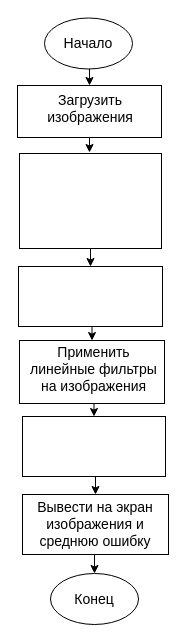
Some shapes in this 186 by 642 pixel diagram are drawn without their labels. Here are the shapes that lost their labels. From the top down, the box of each, then its label:
(18, 152, 162, 248): Устранить интенсивность изображений с помощью фильтра сглаживания.
(18, 266, 162, 326): Получить маски перемножением векторов Лавса
(22, 416, 166, 476): Вычислить среднюю ошибку
